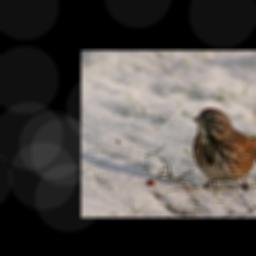Sparrow: (192, 105, 256, 191)
